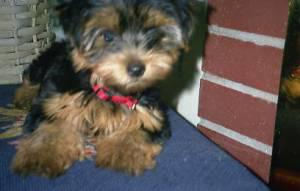dog-yorkshire_terrier: (53, 0, 194, 93)
